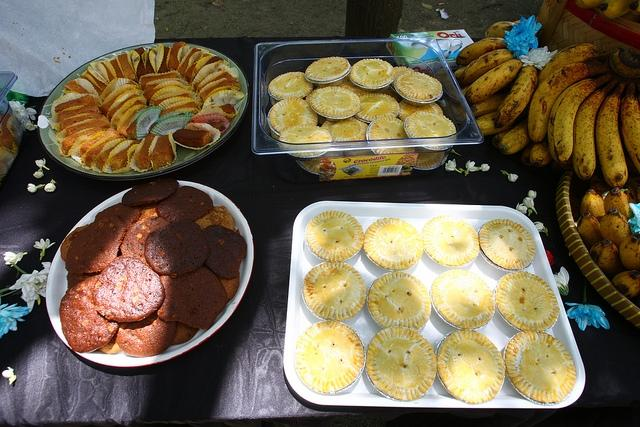banana: (547, 70, 620, 172), (528, 62, 613, 144), (572, 76, 621, 182), (596, 78, 630, 189), (537, 43, 615, 84), (495, 65, 538, 129), (464, 59, 523, 105), (460, 48, 514, 85), (620, 78, 640, 172), (476, 102, 530, 135), (456, 38, 508, 66), (590, 239, 628, 277), (498, 117, 532, 154), (577, 212, 604, 254), (604, 188, 634, 222), (471, 92, 509, 118), (618, 232, 640, 274), (620, 133, 640, 178), (580, 189, 605, 224), (611, 269, 640, 298), (530, 132, 552, 168), (600, 0, 640, 18), (485, 22, 517, 40)
